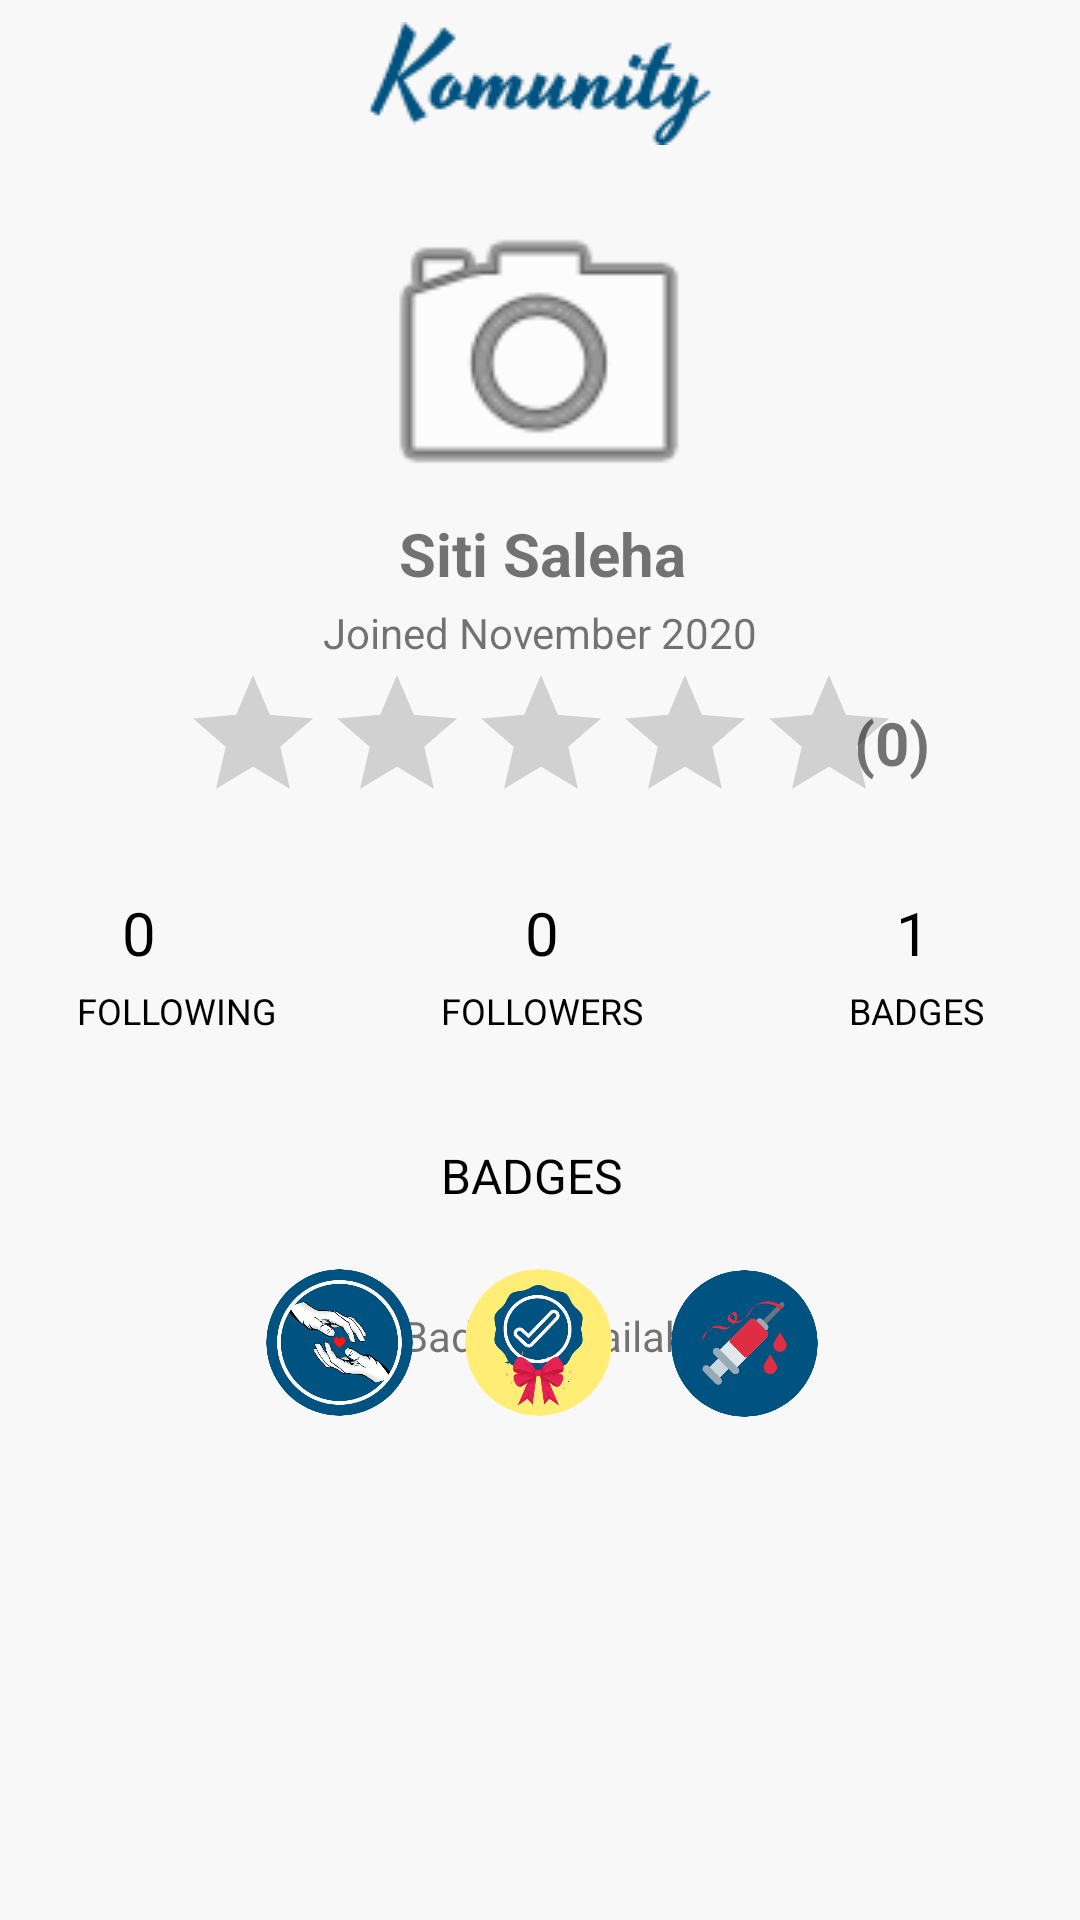

Screen size 1080w x 1920h. Icon name, then its box in pixels as bbox(x1, y1, x2, y2):
blooddonatorbadge: bbox(668, 1270, 818, 1417)
camera: bbox(400, 240, 678, 537)
verified: bbox(453, 1269, 630, 1416)
